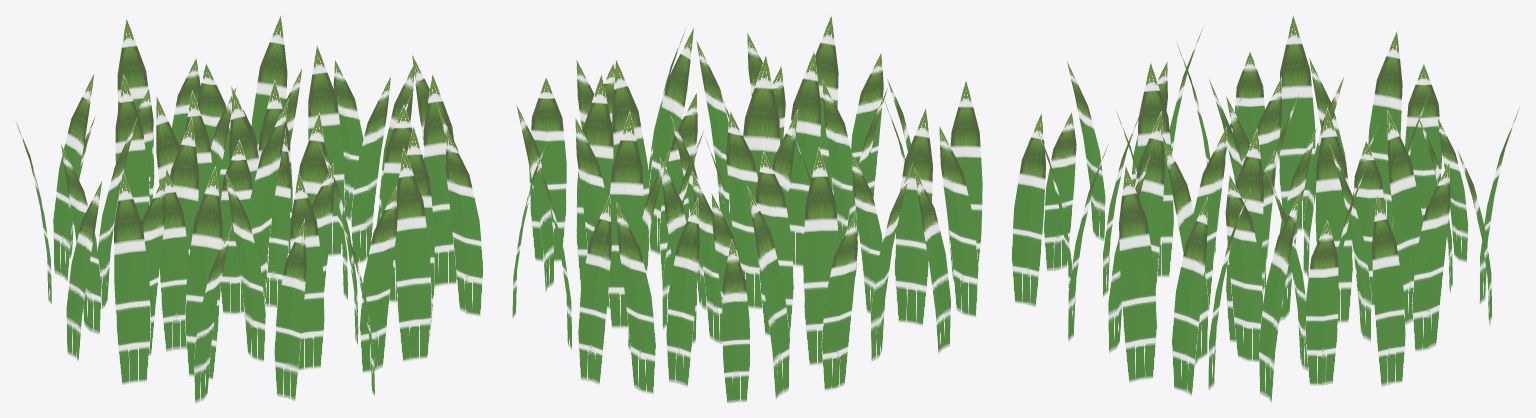
Rendered from Grass_02.glb.
3 renders of one model, left to right at view 1: azimuth 30°, elevation 25°; view 2: azimuth 150°, elevation 25°; view 3: azimuth 270°, elevation 25°, orthographic. The views are drawn at different scales.
Parts seen in each view (by area): view 1: Grass_02_LOD0; view 2: Grass_02_LOD0; view 3: Grass_02_LOD0.
Part boxes in pixels (x1=…): Grass_02_LOD0: x1=15, y1=14, x2=483, y2=403; Grass_02_LOD0: x1=512, y1=14, x2=982, y2=403; Grass_02_LOD0: x1=1011, y1=14, x2=1520, y2=403.
Size of what is drawn, in the model's own units: 0.7216 by 0.401 by 0.7984.
Materials: 1 (1 with a texture image).
